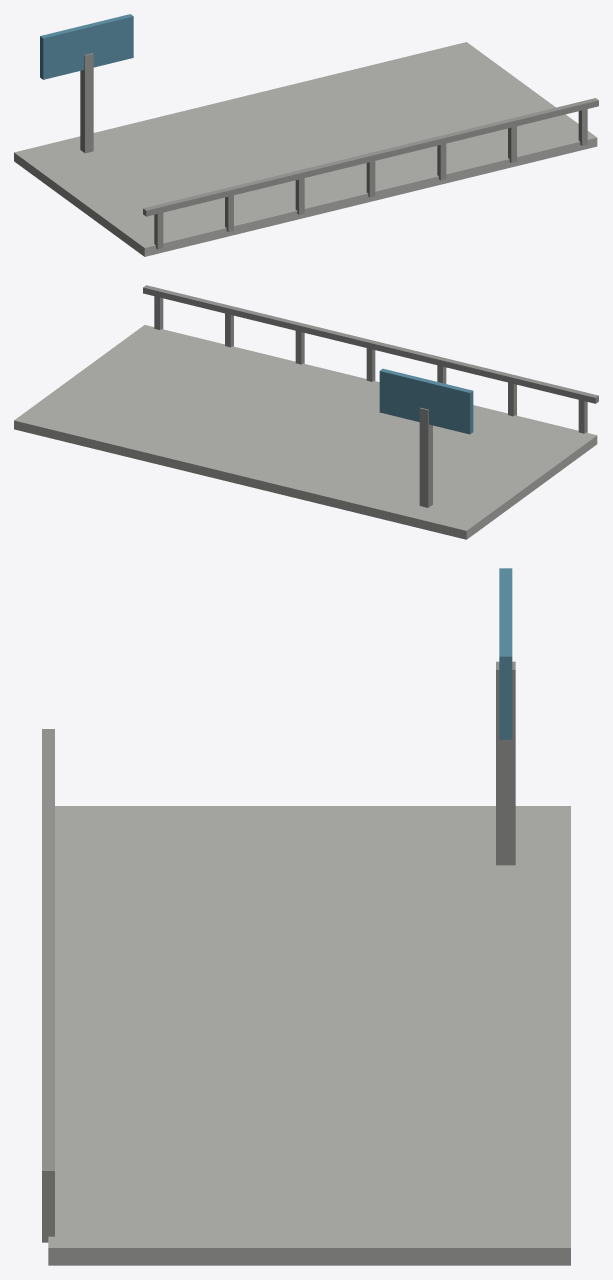
Rendered from viewpoint.glb.
3 views of the same model, one above another, from view 1: azimuth 30°, elevation 25°; view 2: azimuth 150°, elevation 25°; view 3: azimuth 270°, elevation 25° (orthographic). The views are drawn at different scales.
Bounding box in the file's own units: 16 × 4.5 × 8.1.
